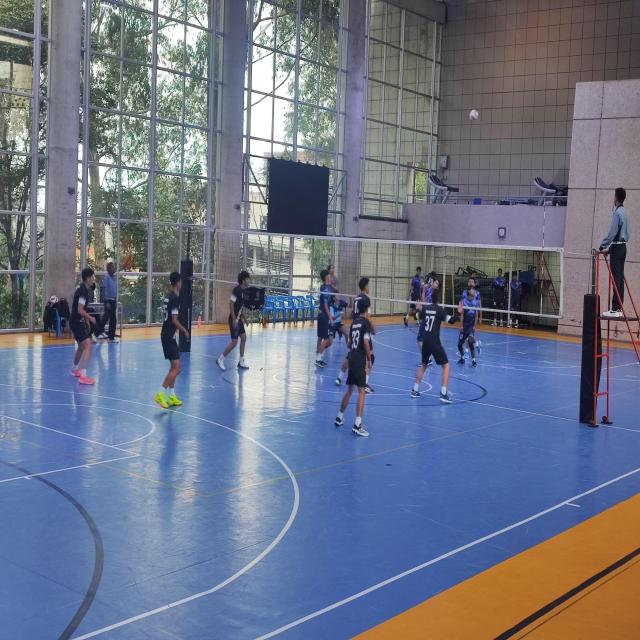volleyball: (469, 110, 479, 122), (50, 295, 58, 305)
